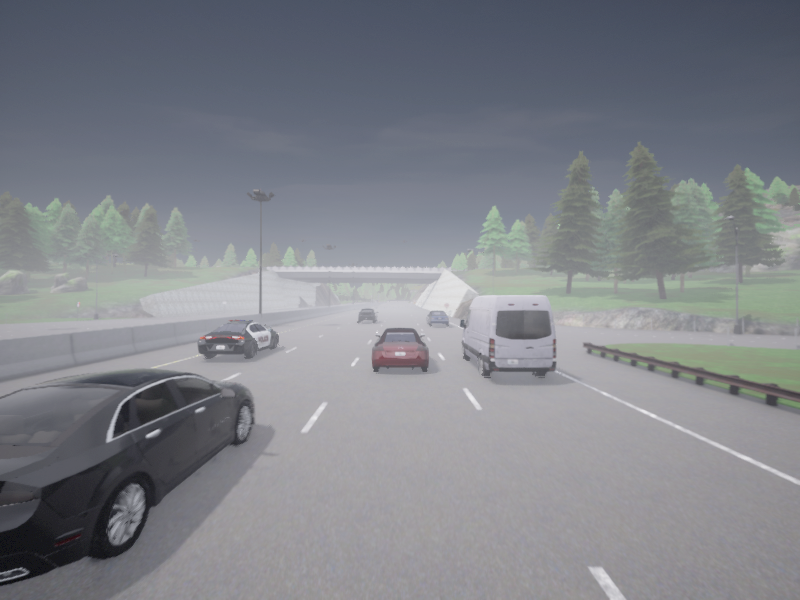vehicle: (0, 368, 253, 586), (460, 295, 555, 377), (198, 320, 278, 358), (372, 328, 428, 370), (426, 311, 448, 325), (358, 308, 378, 322)
